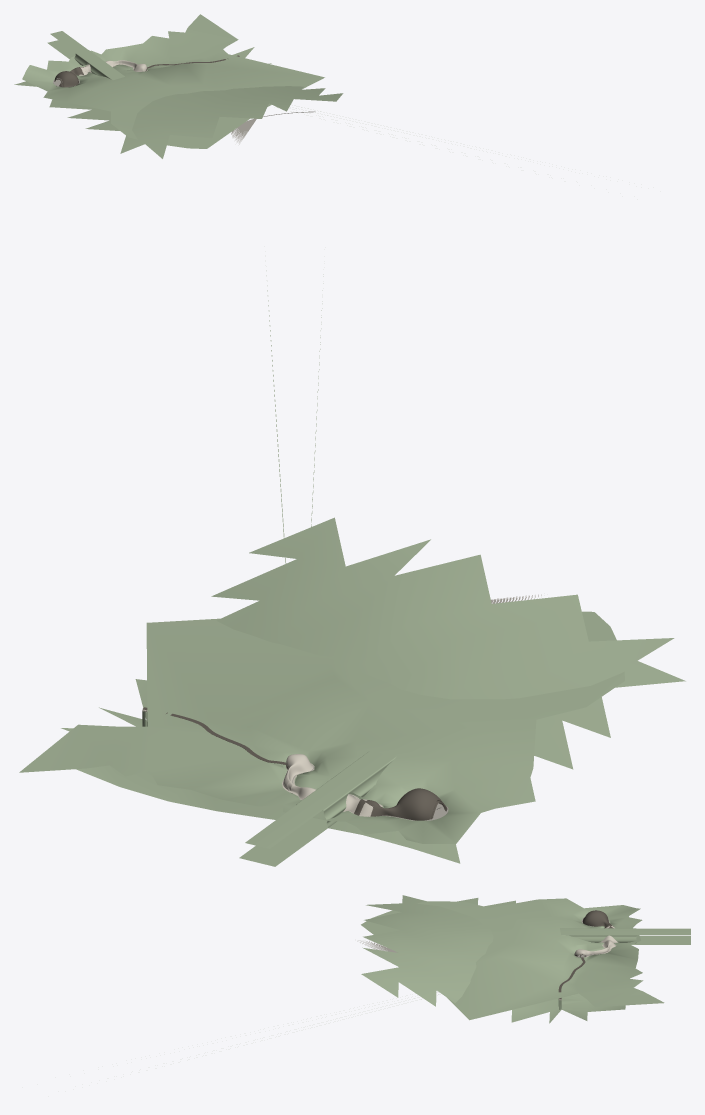
The model's file is museum-study-2.glb.
The picture shows the model from 3 angles, top to bottom: view 1: azimuth 30°, elevation 25°; view 2: azimuth 150°, elevation 25°; view 3: azimuth 270°, elevation 25°; orthographic projection. The views are drawn at different scales.
Parts seen in each view (by area): view 1: Landscape, Landscape detail, Dark timber, Stone, Plaster; view 2: Landscape, Landscape detail, Dark timber, Plaster; view 3: Landscape, Landscape detail, Dark timber, Plaster.
Boxes of the visible parts, x1,y1,x2,y2 form: Landscape: (14,14,343,158); Landscape detail: (47,31,124,80); Dark timber: (54,55,239,87); Stone: (53,64,315,144); Plaster: (79,56,239,75); Landscape: (19,270,685,863); Landscape detail: (239,751,396,866); Dark timber: (142,707,447,820); Plaster: (142,709,382,816); Landscape: (361,895,664,1023); Landscape detail: (560,928,690,944); Dark timber: (558,910,613,999); Plaster: (559,925,617,1000).
Size of the model in its own units: 263 by 24.82 by 382.
